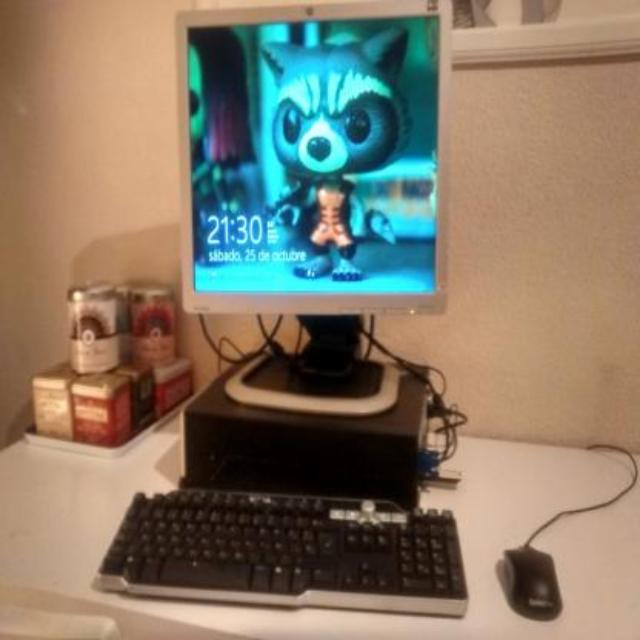Computer-Keyboard: (96, 482, 477, 630)
Computer-Mouse: (492, 528, 584, 626)
Desktop-PC: (168, 348, 464, 508)
Flat-Panel-Monitor: (153, 0, 460, 416)
